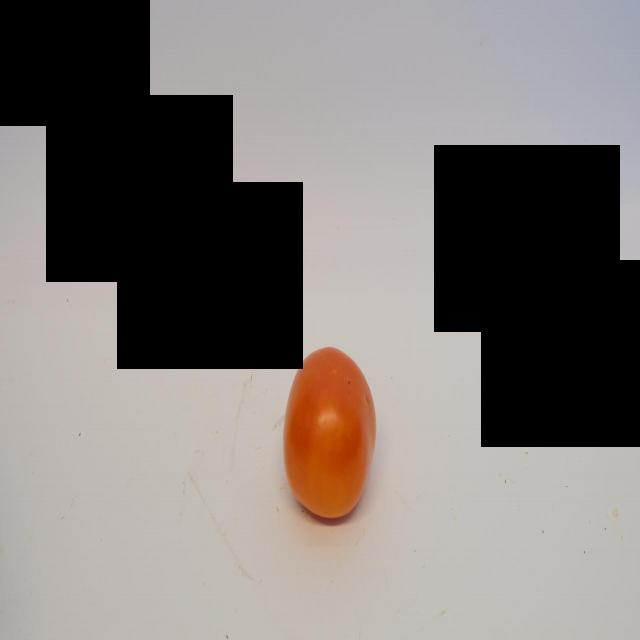tomato: (280, 344, 379, 522)
